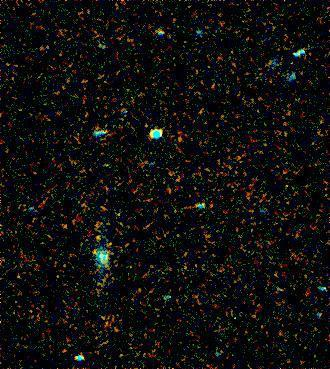star: (85, 221, 115, 251)
